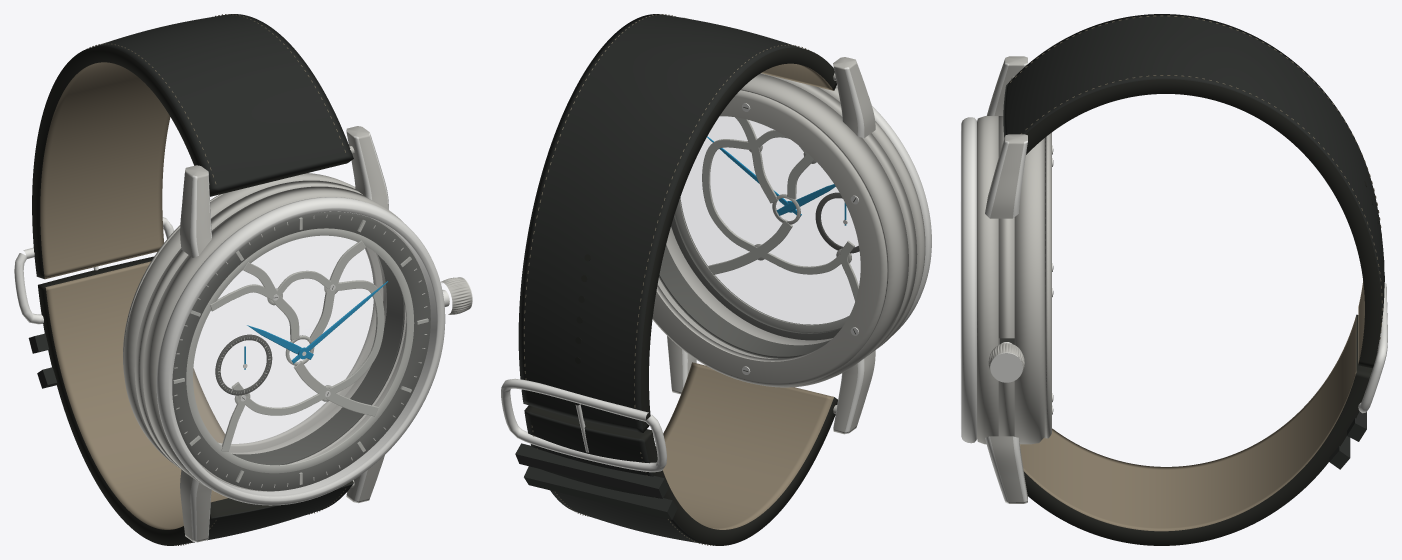
Rendered from aerial-exterior.glb.
3 renders of one model, left to right at view 1: azimuth 30°, elevation 25°; view 2: azimuth 150°, elevation 25°; view 3: azimuth 270°, elevation 25°, orthographic.
Parts seen in each view (by area): view 1: Upper leather strap, Lower leather strap, Soft polished bezel, Chapter ring, Upper case shoulder, Open framework perimeter, Retaining ring, Lower case wall, Case stem clearance, Caseback ring, Flowing tapered lug -1 1, Flowing tapered lug 1 1 (+12 smaller); view 2: Upper leather strap, Lower leather strap, Caseback ring, Lower case wall, Leather keeper (×2), Upper case shoulder, Buckle frame, Retaining ring, Case stem clearance, Flowing tapered lug -1 1, Flowing tapered lug -1 -1, Open framework perimeter (+8 smaller); view 3: Upper leather strap, Lower leather strap, Lower case wall, Upper case shoulder, Soft polished bezel, Case stem clearance, Flowing tapered lug 1 1, Caseback ring, Flowing tapered lug 1 -1, Buckle frame, Flowing tapered lug -1 1, Crown cap.
Boxes of the visible parts, x1,y1,x2,y2 form: Upper leather strap: (32,14,353,279); Lower leather strap: (38,256,353,545); Soft polished bezel: (156,197,445,505); Chapter ring: (172,211,430,491); Upper case shoulder: (143,186,429,491); Open framework perimeter: (186,228,414,473); Retaining ring: (232,255,404,465); Lower case wall: (123,173,406,465); Case stem clearance: (134,180,406,472); Caseback ring: (123,193,383,452); Flowing tapered lug -1 1: (180,165,211,257); Flowing tapered lug 1 1: (346,126,388,209); Upper leather strap: (518,14,836,432); Lower leather strap: (524,362,837,545); Caseback ring: (652,89,888,386); Lower case wall: (657,73,908,387); Leather keeper (×2): (515,443,677,519); Upper case shoulder: (666,86,925,348); Buckle frame: (501,378,666,472); Retaining ring: (659,244,830,358); Case stem clearance: (760,73,917,355); Flowing tapered lug -1 1: (833,57,875,138); Flowing tapered lug -1 -1: (833,350,875,434); Open framework perimeter: (675,197,848,332); Upper leather strap: (1003,14,1384,368); Lower leather strap: (1020,314,1372,545); Lower case wall: (1014,138,1044,444); Upper case shoulder: (977,116,998,444); Soft polished bezel: (961,117,976,443); Case stem clearance: (998,116,1014,436); Flowing tapered lug 1 1: (985,134,1027,218); Caseback ring: (1044,132,1051,438); Flowing tapered lug 1 -1: (985,436,1027,503); Buckle frame: (1358,283,1387,413); Flowing tapered lug -1 1: (986,56,1027,115); Crown cap: (990,352,1022,382).
Size of the model in its own units: 45.86 by 64.44 by 52.8.
